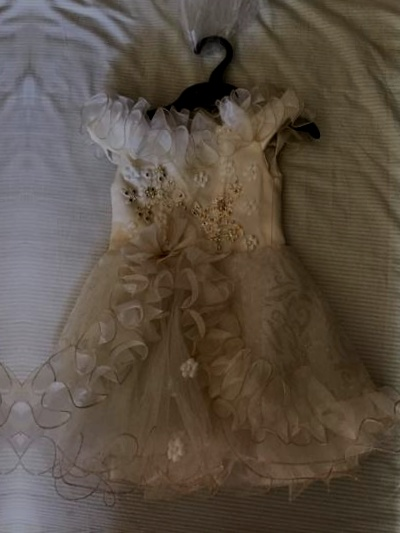Dress: (28, 37, 400, 524), (0, 27, 20, 515)
